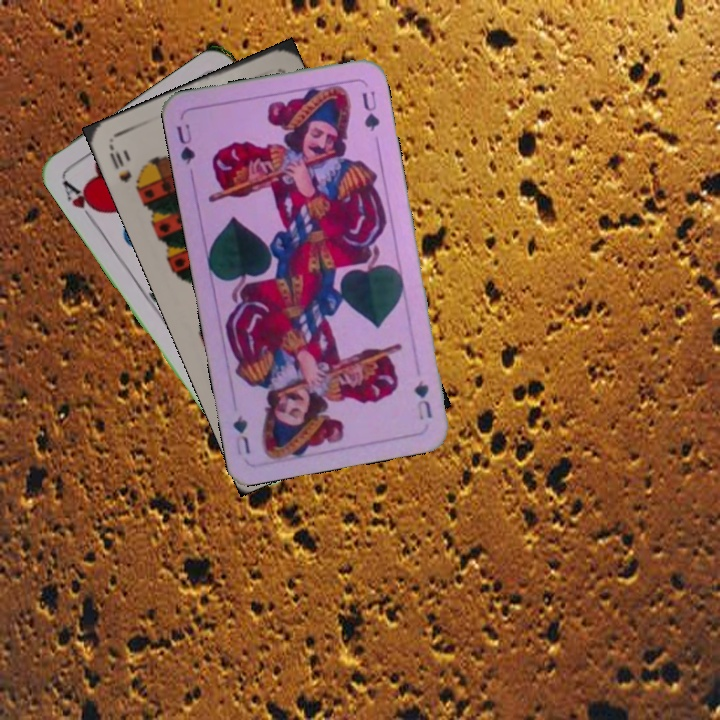GU: (172, 120, 198, 167), (410, 376, 435, 423)
HA: (58, 175, 105, 228)
S10: (105, 143, 144, 196)
